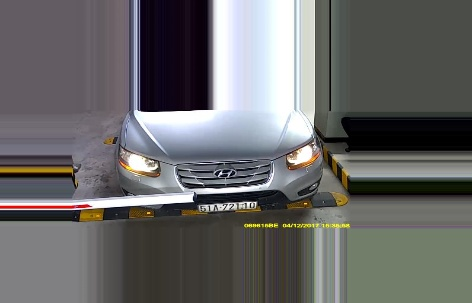plate: (196, 200, 260, 212)
